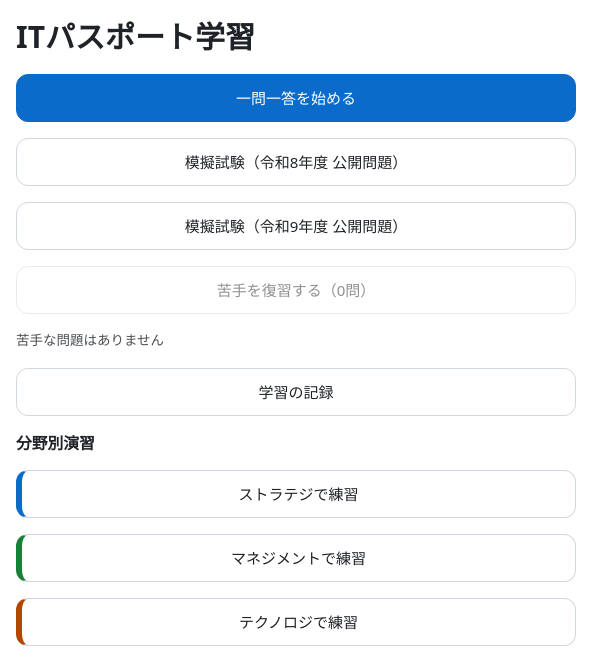
Test: 過去問の模擬試験の結果と履歴 › 「トップへ」を押すと、回ごとのボタンがあるトップに戻る
Click the button "模擬試験（令和8年度 公開問題）". click: (296, 162)
box: x1=16 y1=138 x2=576 y2=186
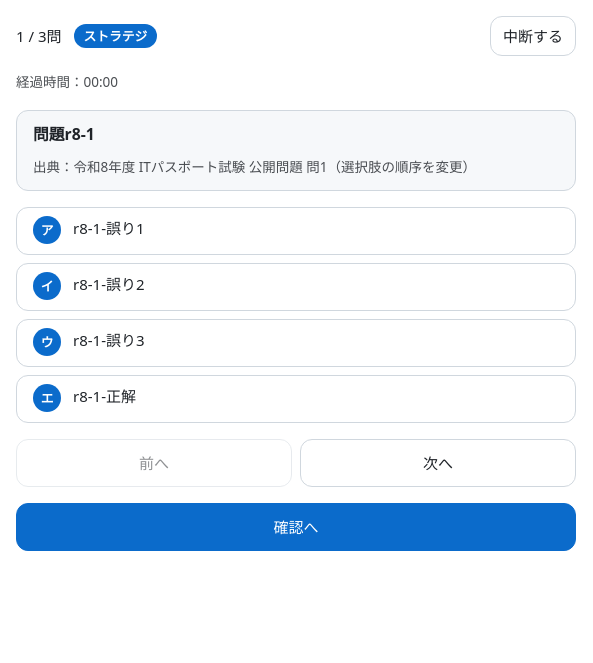
Click the button "確認へ". click: (296, 527)
box: x1=16 y1=503 x2=576 y2=551
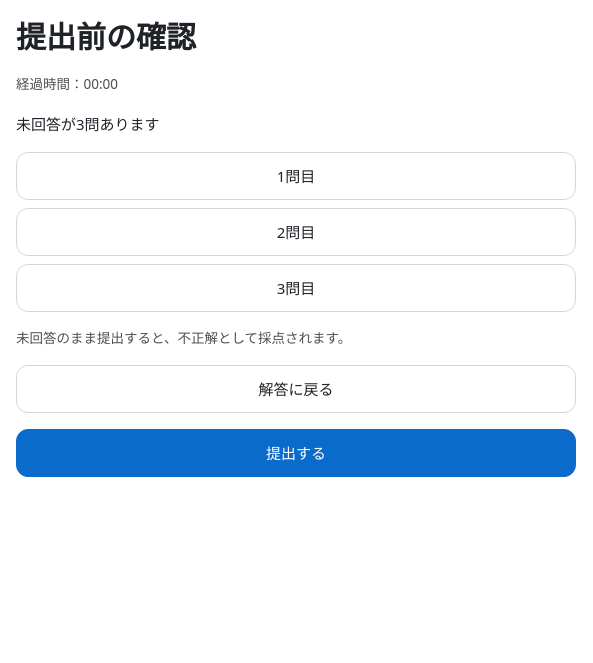
Click the button "提出する". click: (296, 453)
box: x1=16 y1=429 x2=576 y2=477
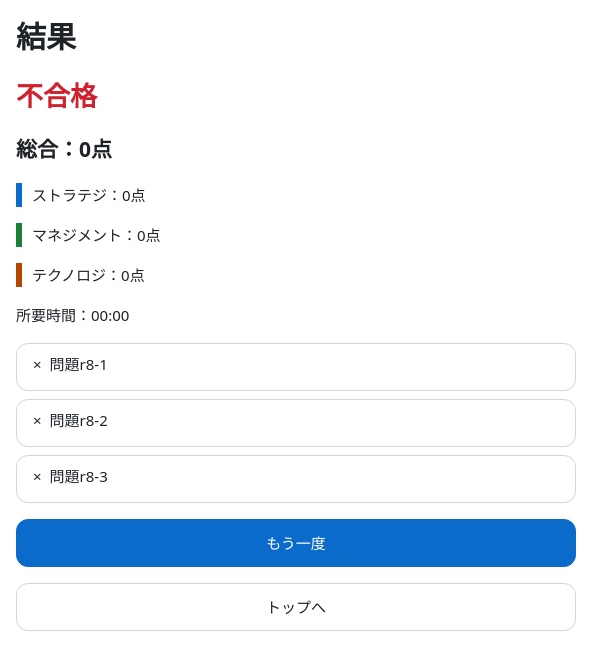
Click the button "トップへ". click: (296, 607)
box: x1=16 y1=583 x2=576 y2=631
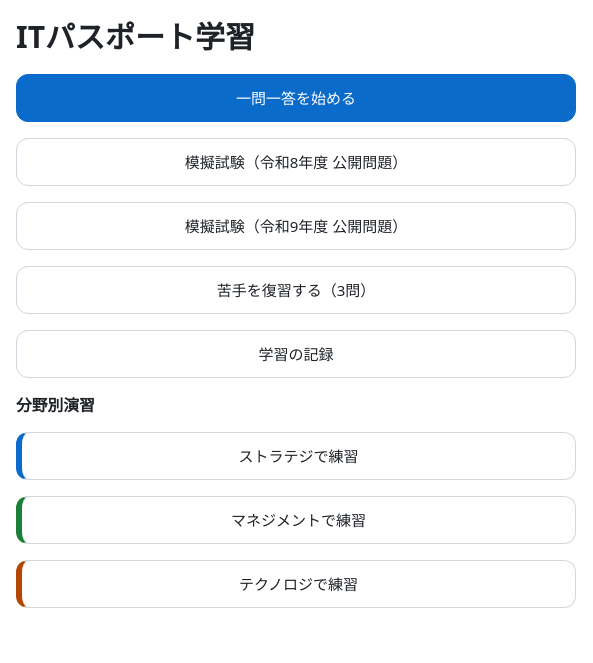
Result: the button "模擬試験（令和9年度 公開問題）" is shown at x1=16 y1=202 x2=576 y2=250
